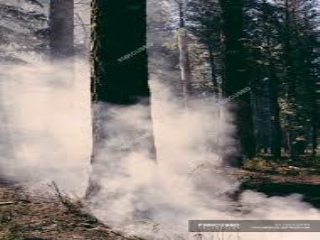smoke: (158, 84, 245, 211)
